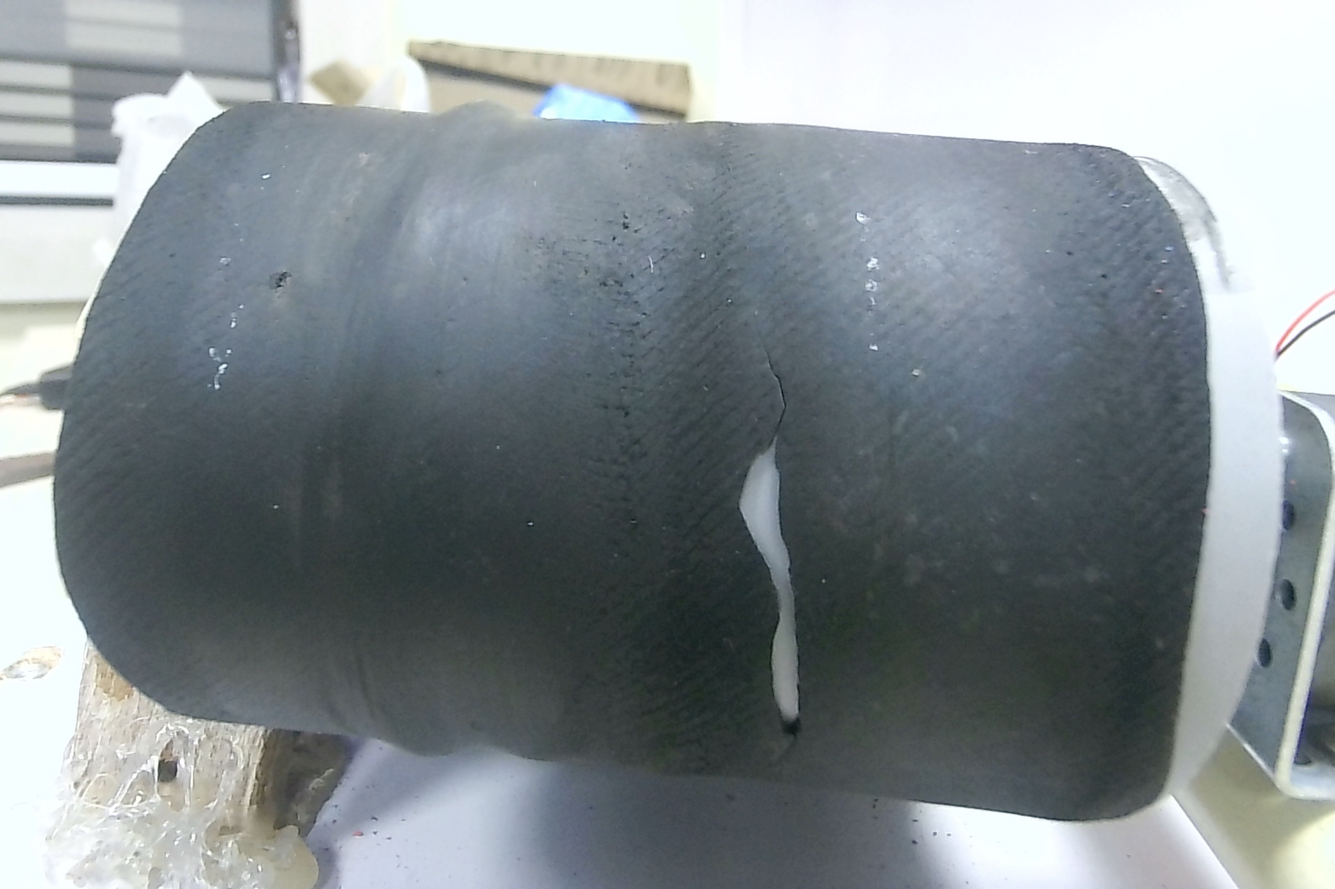tear: (729, 425, 831, 766)
